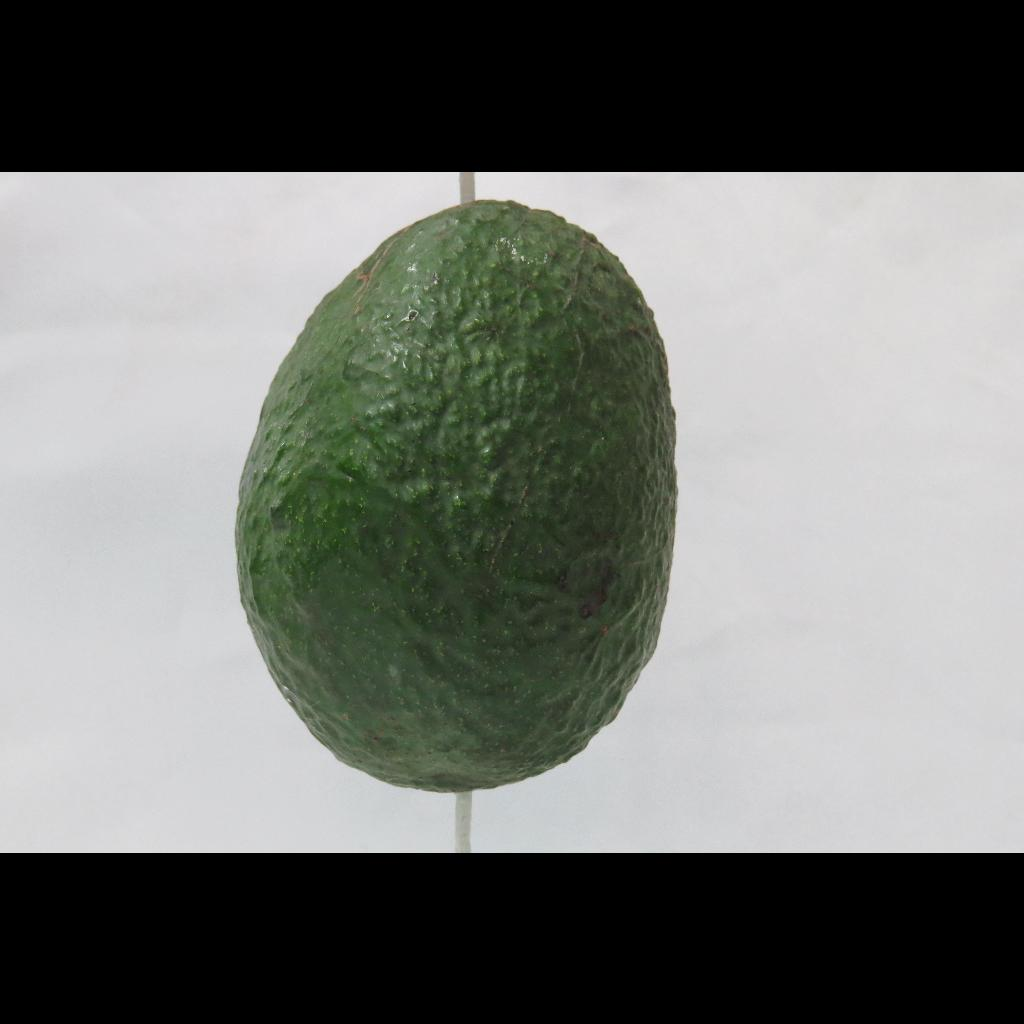Healthy: (209, 182, 719, 840)
